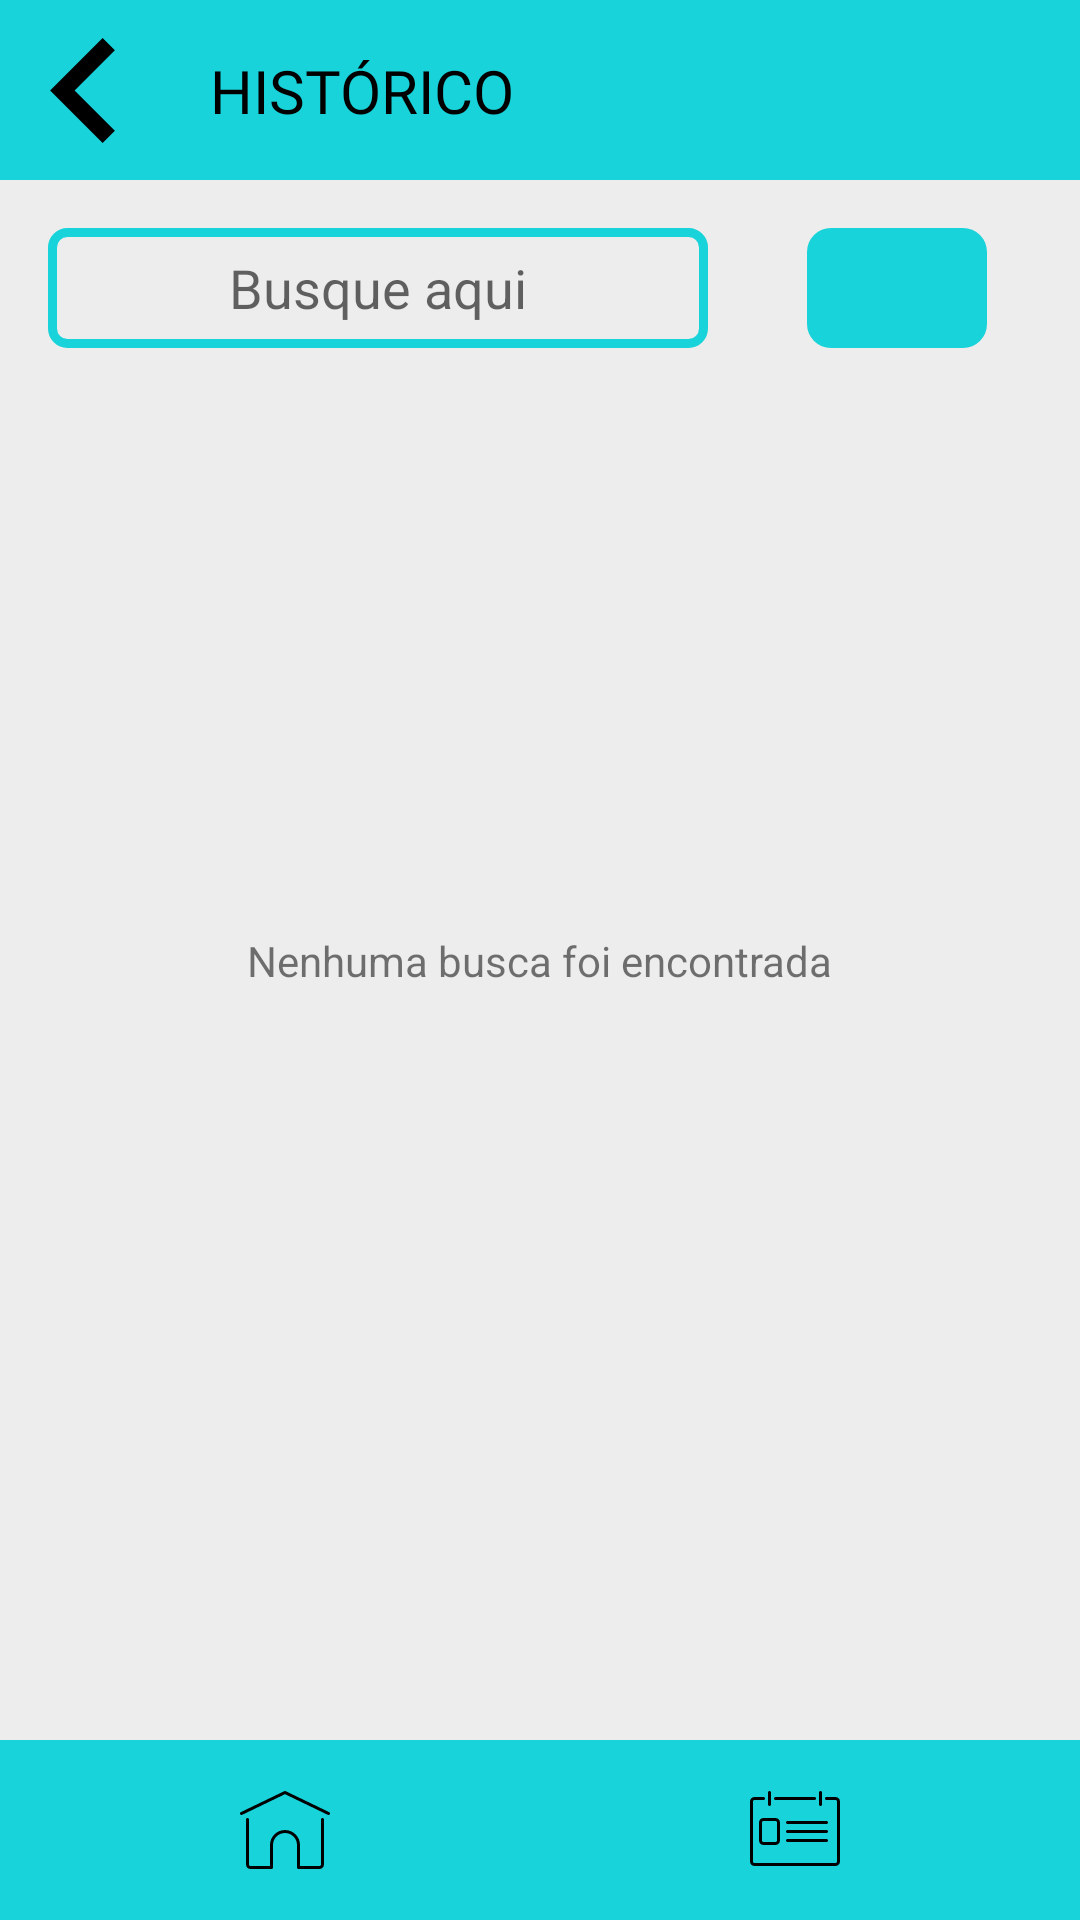

Locate icon controls on the screen. Image size 1080w x 1920h, boxes as [x1,y1,x2,y2].
back: [50,38,115,143]
contactform: [750,1791,840,1866]
home: [240,1791,330,1869]
